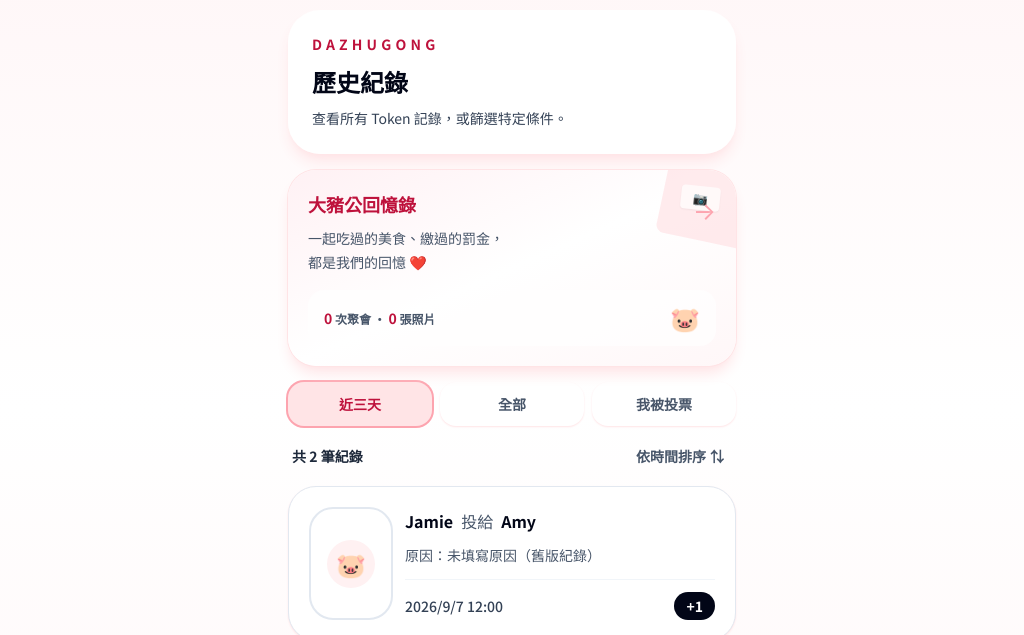
Scenario: History page › 全部 scope: advanced query › 清除條件 resets both the form fields and the results back to the default 3-day window
The image size is (1024, 635).
Click the tab "全部" at (512, 404), box [440,382,584,426]
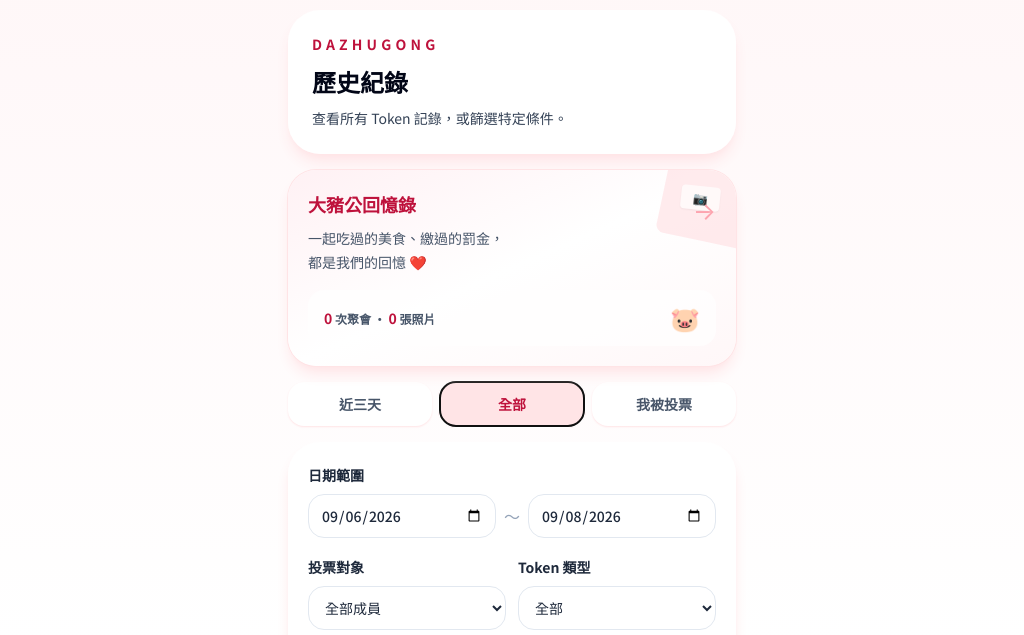
Select "Amy" in the dropdown labelled "投票對象" at (407, 608), box [308,586,506,630]
(page scrolled)
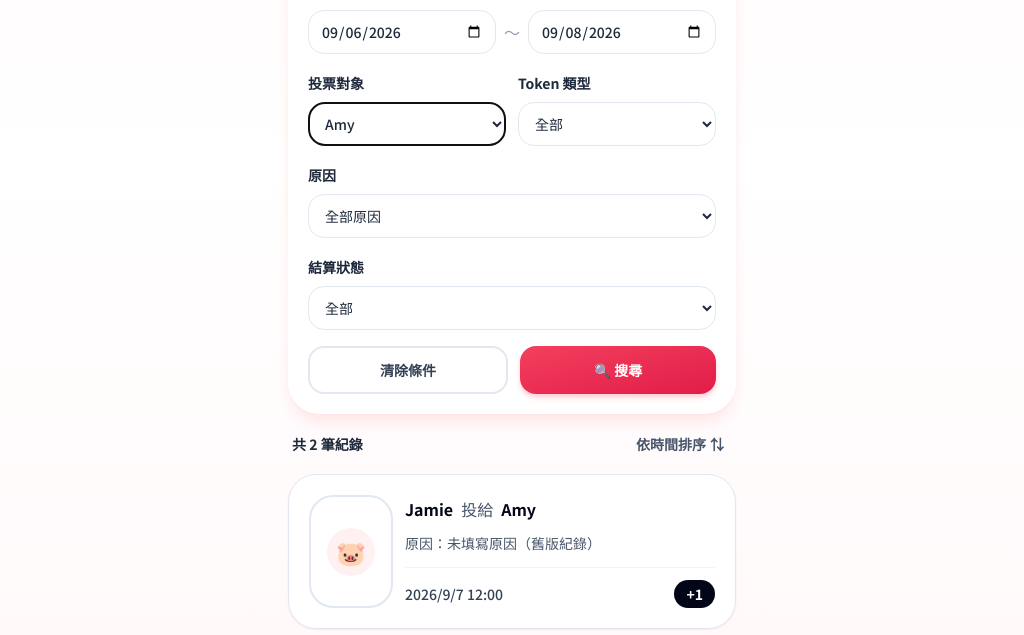
Click the button "🔍 搜尋" at (618, 370), box [520,346,716,394]
(page scrolled)
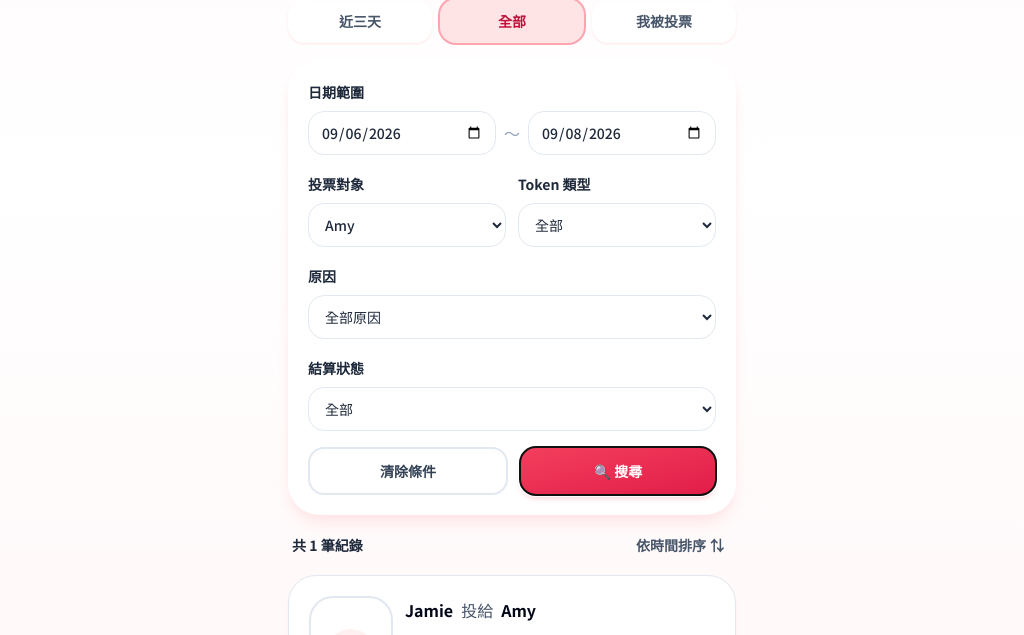
Expected: the text "共 1 筆紀錄" is shown, [292,535,363,555]
Click the button "清除條件" at (408, 471), box [308,447,508,495]
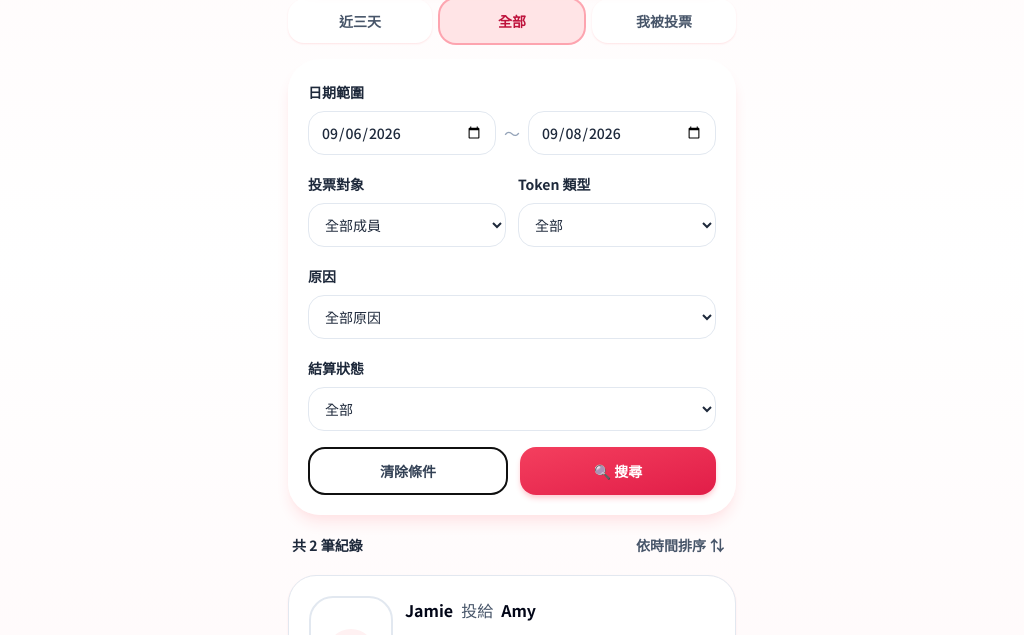
Expected: the text "共 2 筆紀錄" is shown, [292,535,363,555]
